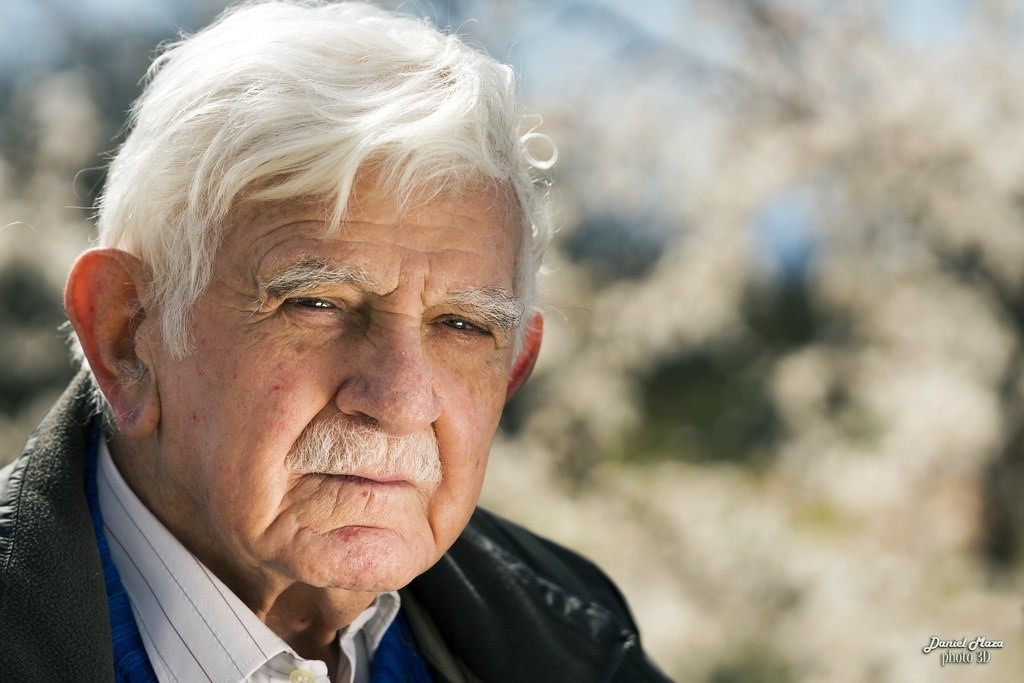face_no_mask: (64, 0, 539, 590)
